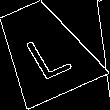L_NW: (16, 21, 73, 80)
